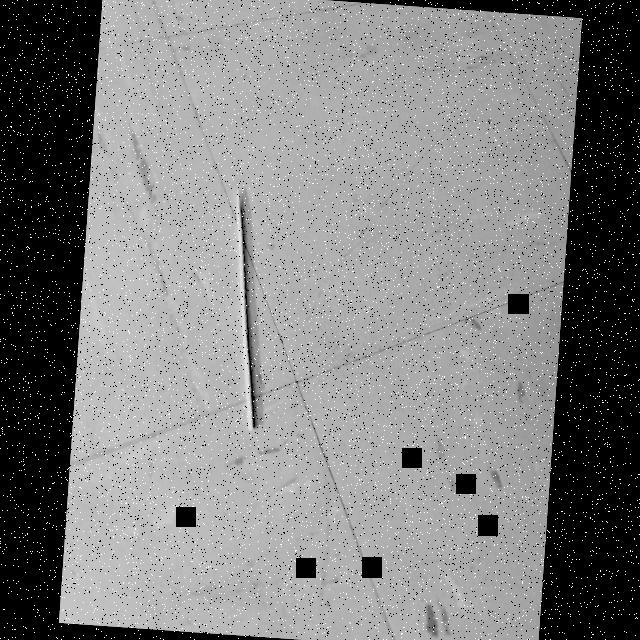stick: (208, 189, 290, 443)
